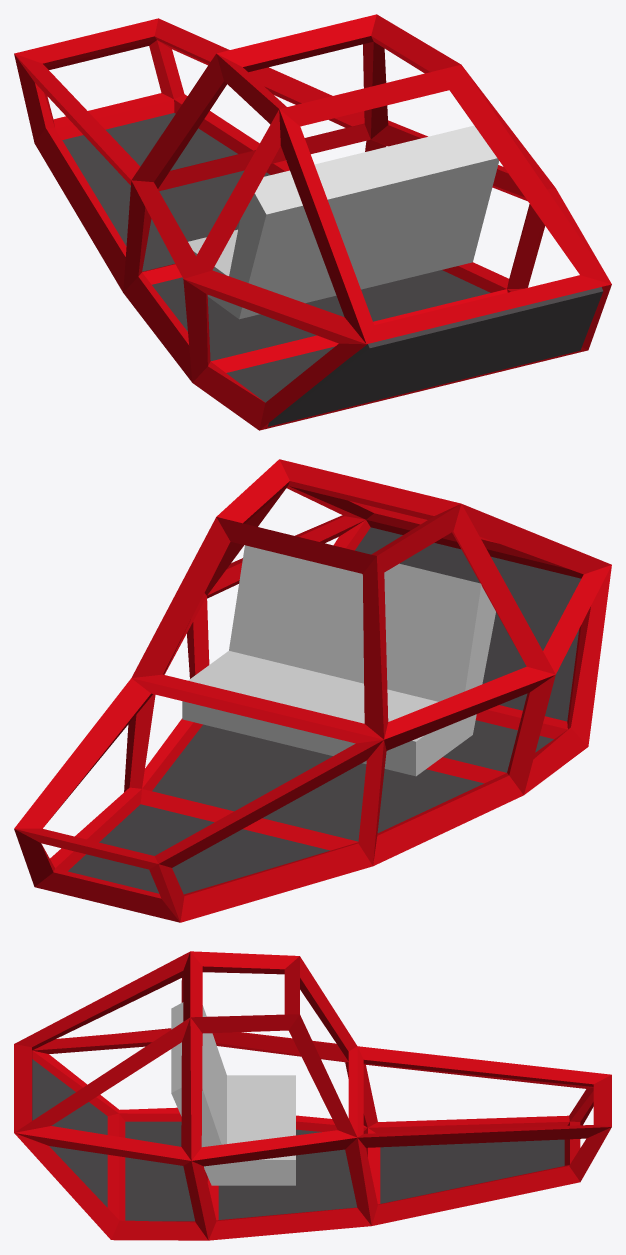
The model's file is duneBuggy_frame.gltf.
The picture shows the model from 3 angles, top to bottom: view 1: azimuth 30°, elevation 25°; view 2: azimuth 150°, elevation 25°; view 3: azimuth 270°, elevation 25°; orthographic projection. The views are drawn at different scales.
Visible parts, largest first — view 1: Frame; view 2: Frame; view 3: Frame.
Boxes of the visible parts, x1,y1,x2,y2 form: Frame: (14,14,611,430); Frame: (14,459,611,922); Frame: (14,951,611,1240).
Size of the model in its own units: 3.19 by 2.17 by 5.97.
